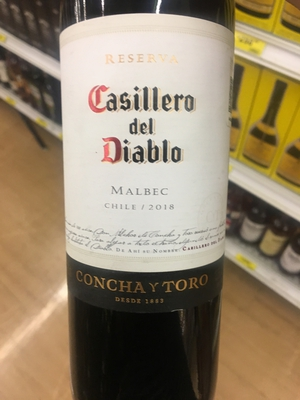casillero del diablo malbec: (50, 4, 238, 400)
